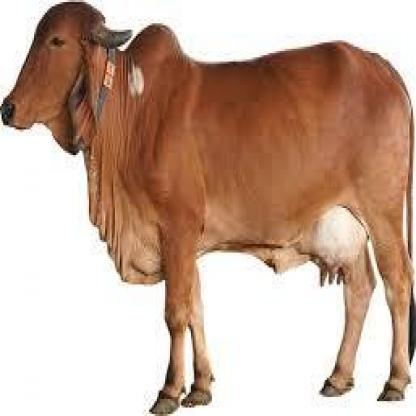cow: (2, 4, 411, 412)
